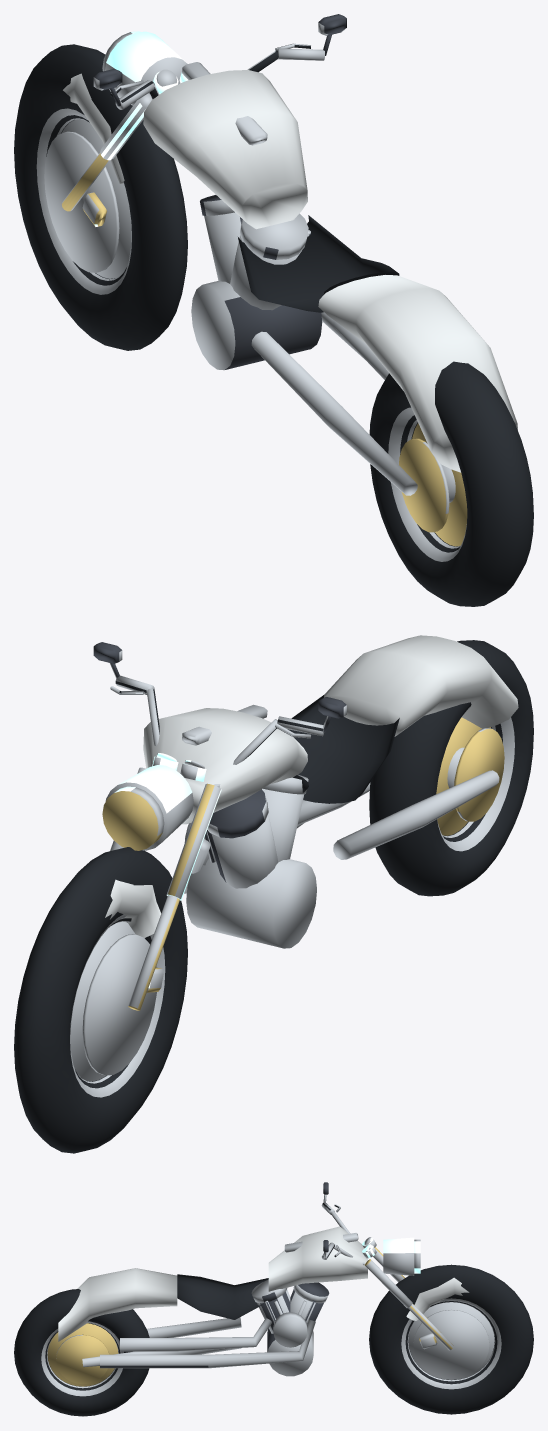
Rendered from outlaw.glb.
3 renders of one model, top to bottom at view 1: azimuth 30°, elevation 25°; view 2: azimuth 150°, elevation 25°; view 3: azimuth 270°, elevation 25°, orthographic. The views are drawn at different scales.
Parts seen in each view (by area): view 1: chassis, front-wheel, rear-wheel, cockpit; view 2: chassis, front-wheel, rear-wheel, cockpit; view 3: chassis, front-wheel, rear-wheel, cockpit.
Boxes of the visible parts, bbox=[...] form: chassis: bbox=[62, 31, 517, 495]; front-wheel: bbox=[14, 44, 187, 350]; rear-wheel: bbox=[369, 361, 533, 606]; cockpit: bbox=[93, 14, 346, 109]; chassis: bbox=[102, 635, 518, 1010]; front-wheel: bbox=[14, 847, 187, 1153]; rear-wheel: bbox=[369, 640, 533, 896]; cockpit: bbox=[93, 642, 346, 787]; chassis: bbox=[58, 1226, 469, 1376]; front-wheel: bbox=[369, 1264, 533, 1414]; rear-wheel: bbox=[14, 1289, 149, 1416]; cockpit: bbox=[321, 1182, 376, 1264].
Size of the model in its own units: 0.98 by 1.44 by 3.36.
